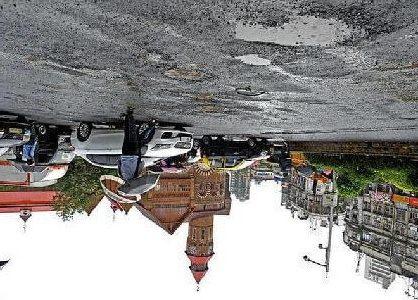pothole: (228, 12, 364, 49), (162, 65, 212, 84), (232, 52, 273, 69), (233, 87, 266, 98)
